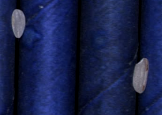complete_grain: (130, 56, 152, 99), (10, 9, 30, 41)
